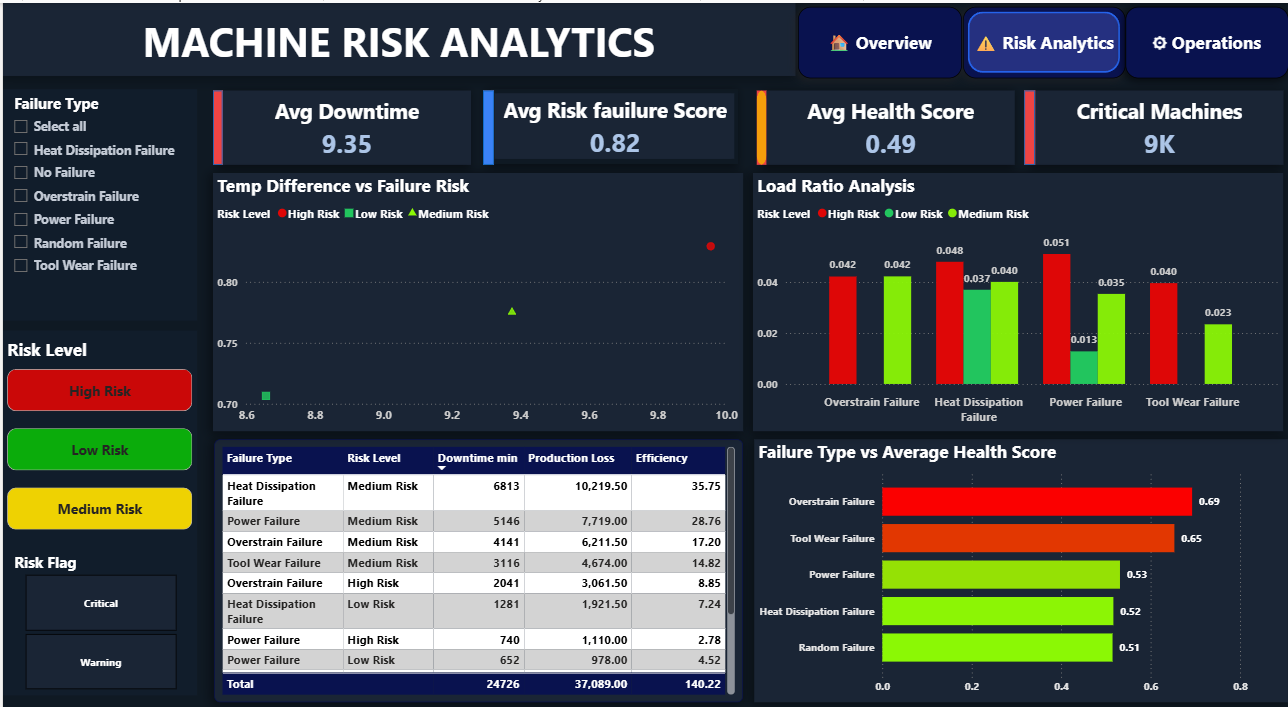

The page's visual inventory and layout, read from the dashboard file:
{"tool":"powerbi","page":{"name":"Page 2","canvas":[1500,820],"ordinal":1},"visuals":[{"type":"tableEx","title":"Load Ratio Analysis","fields":{"Values":["manufacturing_project machines_data.Failure_Type","manufacturing_project machines_data.Risk_Level","Sum(manufacturing_project machines_data.Downtime_min)","Sum(manufacturing_project machines_data.Production_Loss)","Sum(manufacturing_project machines_data.Efficiency)"]},"box":[245.1,507.1,614.2,305.7],"z":0},{"type":"barChart","title":"Failure Type vs Average Health Score","fields":{"Category":["manufacturing_project machines_data.Failure_Type"],"Y":["Avg(manufacturing_project machines_data.Health_Score)"]},"box":[873.4,507.1,619.8,305.7],"z":1000},{"type":"cardVisual","title":"MANUFACTURING OPERATIONS OVERVIEW","fields":{"Data":["manufacturing_project machines_data.PAGE2"]},"box":[0,0,920.6,85],"z":2000},{"type":"actionButton","box":[1115.7,4.2,188.8,83.1],"z":3000},{"type":"actionButton","box":[924.1,4.2,190.2,83.1],"z":4000},{"type":"actionButton","box":[1303.9,4.2,189.5,83.6],"z":5000},{"type":"slicer","fields":{"Values":["manufacturing_project machines_data.Failure_Type"]},"box":[0,100.3,225.6,268.8],"z":6000},{"type":"advancedSlicerVisual","title":"Risk Level","fields":{"Values":["manufacturing_project machines_data.Risk_Level"]},"box":[0,380.2,225.6,253.5],"z":7000},{"type":"slicer","fields":{"Values":["manufacturing_project machines_data.Risk_Flag"]},"box":[0,633.7,225.6,171.3],"z":8000},{"type":"cardVisual","fields":{"Data":["manufacturing_project machines_data.Average Downtime"]},"box":[253.5,101.7,289.7,86.4],"z":9000},{"type":"shape","box":[243.8,101.7,11.1,86.4],"z":10000},{"type":"cardVisual","fields":{"Data":["Avg(manufacturing_project machines_data.Failure_Risk_Score)"]},"box":[567,100.3,288.4,86],"z":11000},{"type":"shape","box":[557.2,101.7,12.5,86.4],"z":12000},{"type":"cardVisual","fields":{"Data":["Avg(manufacturing_project machines_data.Health_Score)"]},"box":[886,101.7,289.7,86.4],"z":13000},{"type":"shape","box":[876.2,101.7,11.1,86.4],"z":14000},{"type":"cardVisual","fields":{"Data":["manufacturing_project machines_data.Critical Machines"]},"box":[1198,101.7,289.7,86.4],"z":15000},{"type":"shape","box":[1186.9,101.7,12.5,86.4],"z":16000},{"type":"scatterChart","title":"Temp Difference vs Failure Risk","fields":{"X":["Avg(manufacturing_project machines_data.Temp_Diff)"],"Series":["manufacturing_project machines_data.Risk_Level"],"Y":["Avg(manufacturing_project machines_data.Failure_Risk_Score)"]},"box":[243.7,197.2,615.6,300.1],"z":17000},{"type":"clusteredColumnChart","title":"Load Ratio Analysis","fields":{"Category":["manufacturing_project machines_data.Failure_Type"],"Y":["Avg(manufacturing_project machines_data.Load_Ratio)"],"Series":["manufacturing_project machines_data.Risk_Level"]},"box":[872,197.2,615.6,300.1],"z":18000}]}

Visuals, with their boxes in screenshot pixels (x1, y1, x2, y2), scaled from the page's 1500x820 canvas onto the 1288x707 screenshot:
"Load Ratio Analysis" tableEx: 210 437 738 701
"Failure Type vs Average Health Score" barChart: 750 437 1282 701
"MANUFACTURING OPERATIONS OVERVIEW" cardVisual: 0 0 790 73
actionButton: 958 4 1120 75
actionButton: 793 4 957 75
actionButton: 1120 4 1282 76
slicer - manufacturing_project machines_data.Failure_Type: 0 86 194 318
"Risk Level" advancedSlicerVisual: 0 328 194 546
slicer - manufacturing_project machines_data.Risk_Flag: 0 546 194 694
cardVisual - manufacturing_project machines_data.Average Downtime: 218 88 466 162
shape: 209 88 219 162
cardVisual - Avg(manufacturing_project machines_data.Failure_Risk_Score): 487 86 735 161
shape: 478 88 489 162
cardVisual - Avg(manufacturing_project machines_data.Health_Score): 761 88 1010 162
shape: 752 88 762 162
cardVisual - manufacturing_project machines_data.Critical Machines: 1029 88 1277 162
shape: 1019 88 1030 162
"Temp Difference vs Failure Risk" scatterChart: 209 170 738 429
"Load Ratio Analysis" clusteredColumnChart: 749 170 1277 429
